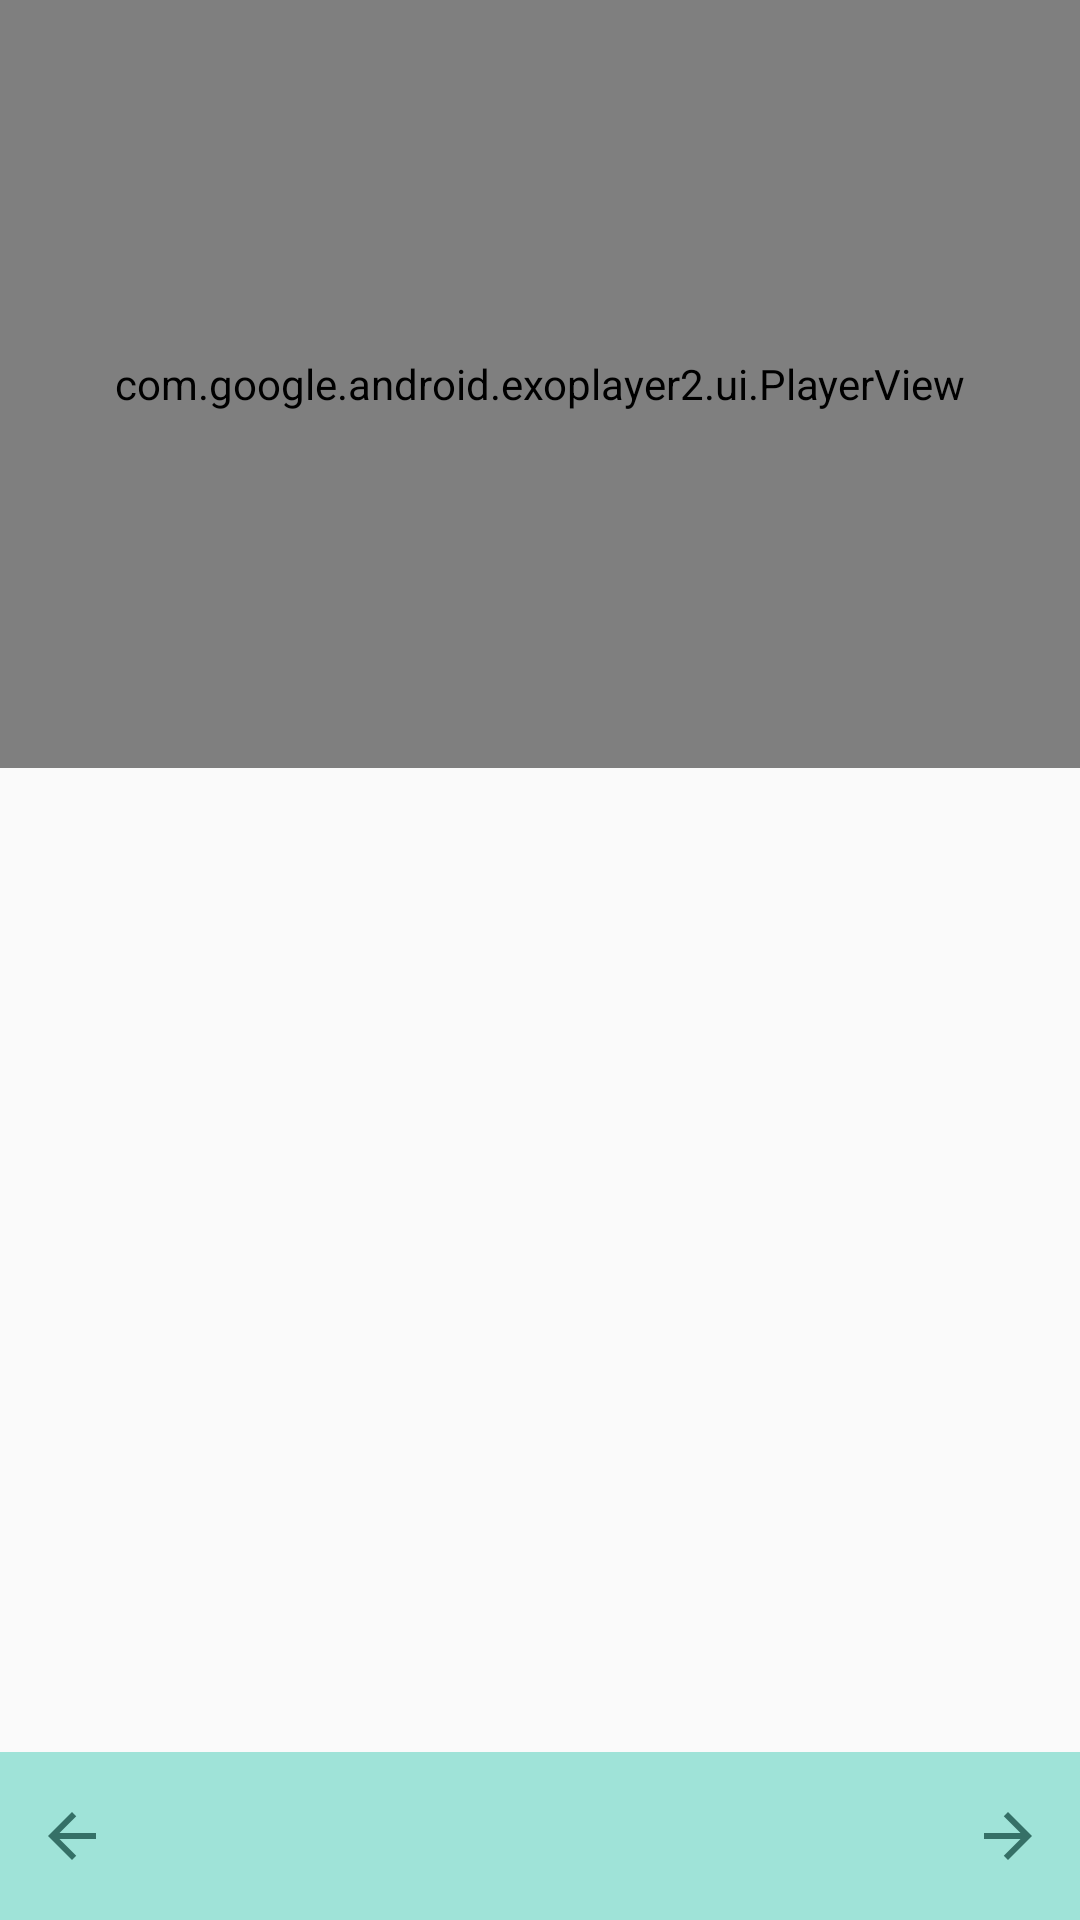

Locate icon controls on the screen. Image size 1080x1920, boxes as (x1=x1, y1=y1, x2=x2, y2=y2).
Next step: (x1=984, y1=1812, x2=1032, y2=1860)
Previous step: (x1=48, y1=1812, x2=96, y2=1860)
